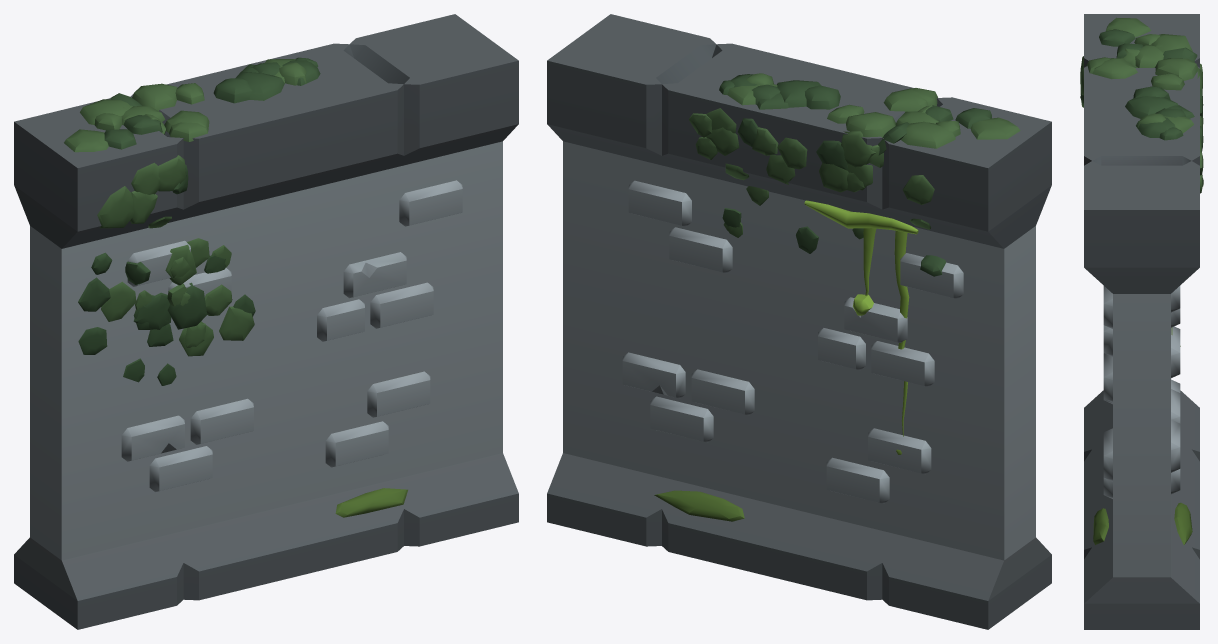
Rendered from wall_slimy_D.glb.
3 views of the same model, side by side, from view 1: azimuth 30°, elevation 25°; view 2: azimuth 150°, elevation 25°; view 3: azimuth 270°, elevation 25° (orthographic). The views are drawn at different scales.
Parts seen in each view (by area): view 1: Item; view 2: Item; view 3: Item.
Boxes of the visible parts, left/top/right/bottom form: Item: left=14, top=14, right=518, bottom=629; Item: left=547, top=14, right=1051, bottom=629; Item: left=1080, top=14, right=1203, bottom=629.
Size of the model in its own units: 4 by 4.11 by 1.07.
Materials: 4 (4 with a texture image).
